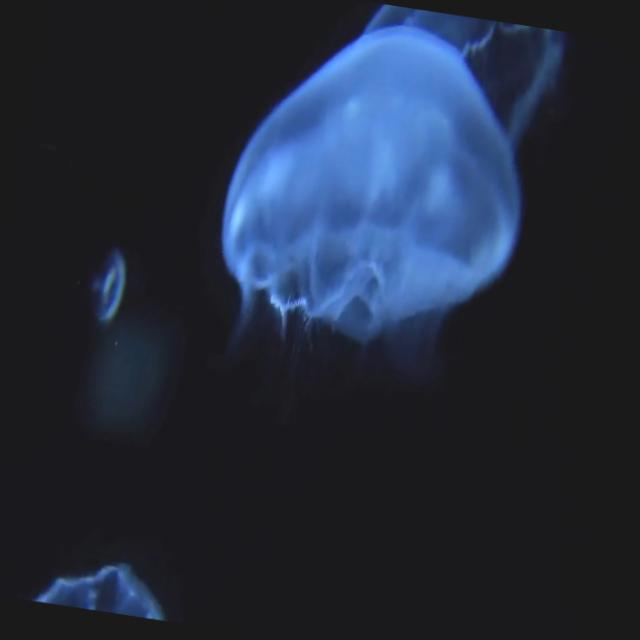Moon-jellyfish: (221, 16, 524, 341), (88, 232, 134, 337)
